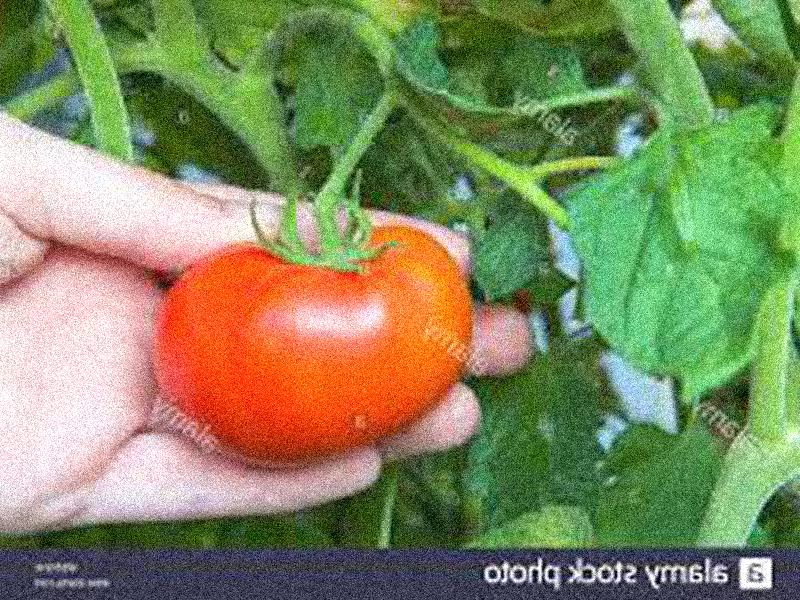Tomato: (150, 226, 471, 458)
